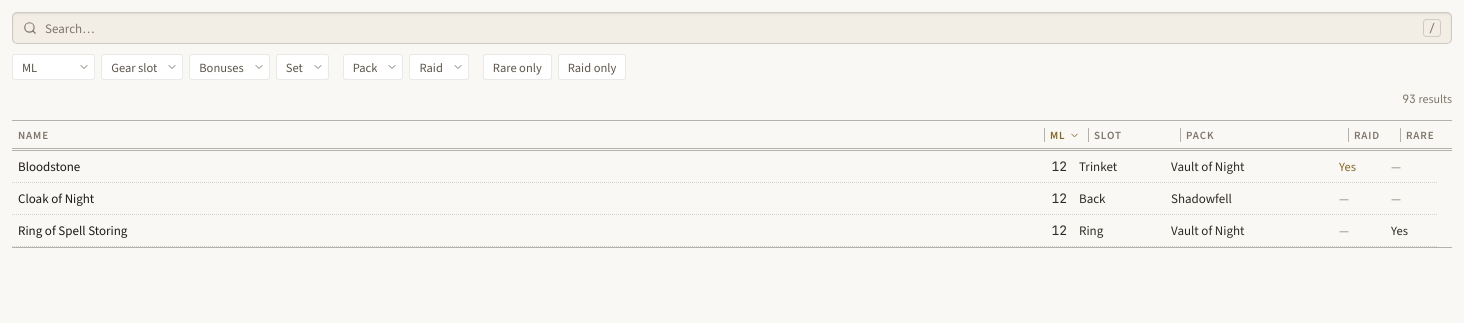
Scenario: ItemPicker server-backed filters › pins a selected bonus to the top when reopening its picker
The image size is (1464, 323).
Click the button "Bonuses". click: (230, 67)
box: 189,54 -> 270,80
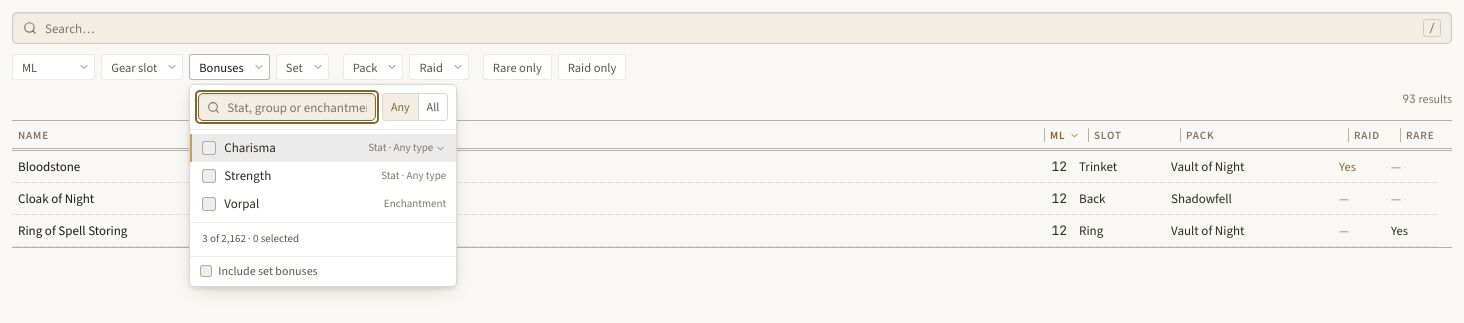
Click the option "Strength Stat · Any type". click: (248, 176)
box: 190,162 -> 456,190
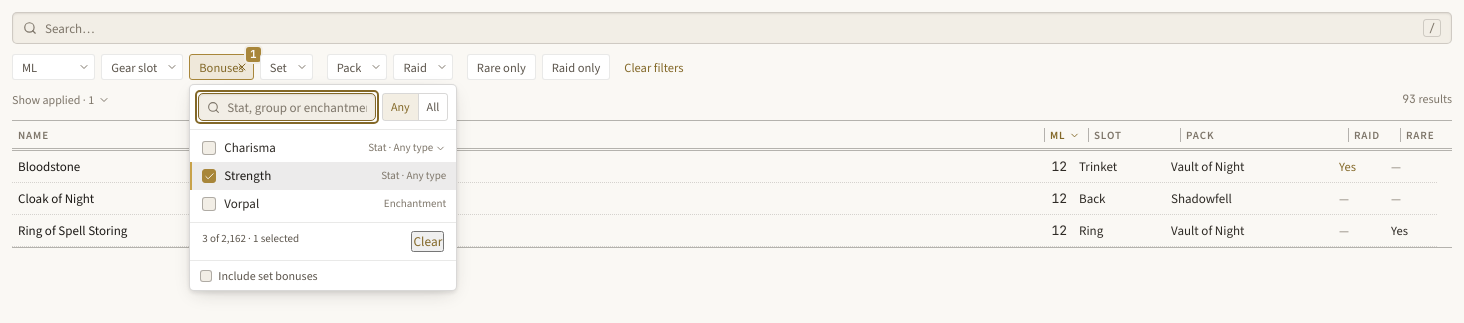
Click the button "Bonuses". click: (222, 67)
box: 189,54 -> 254,80
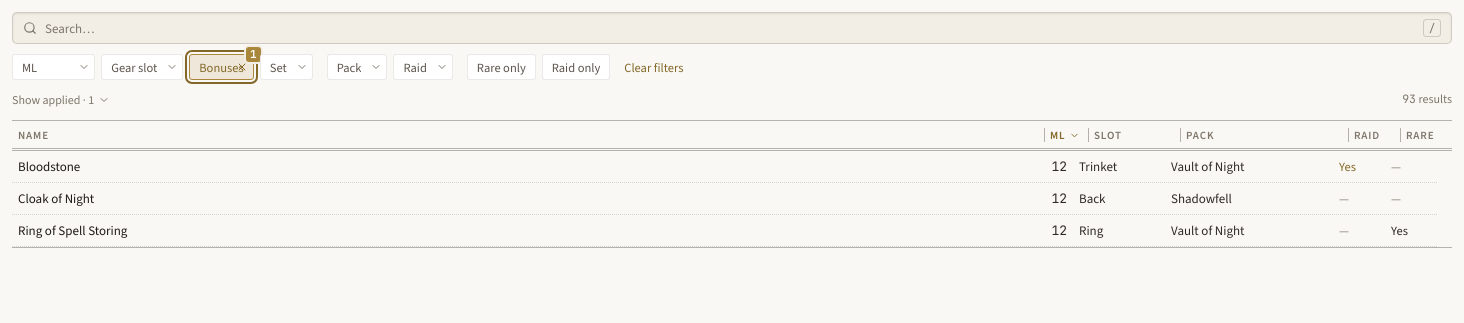
Click the button "Bonuses". click: (222, 67)
box: 189,54 -> 254,80
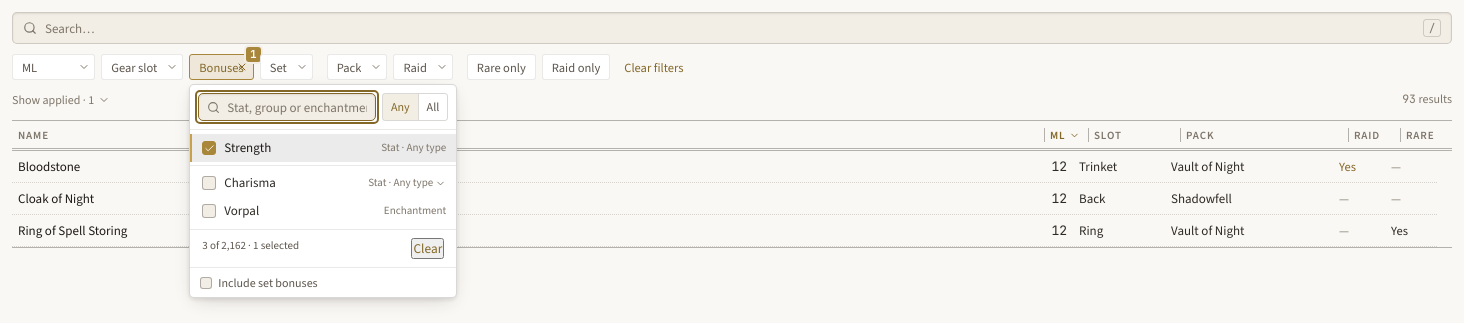
Check: the option "Strength Stat · Any type" is shown, box 190,134 -> 456,162
